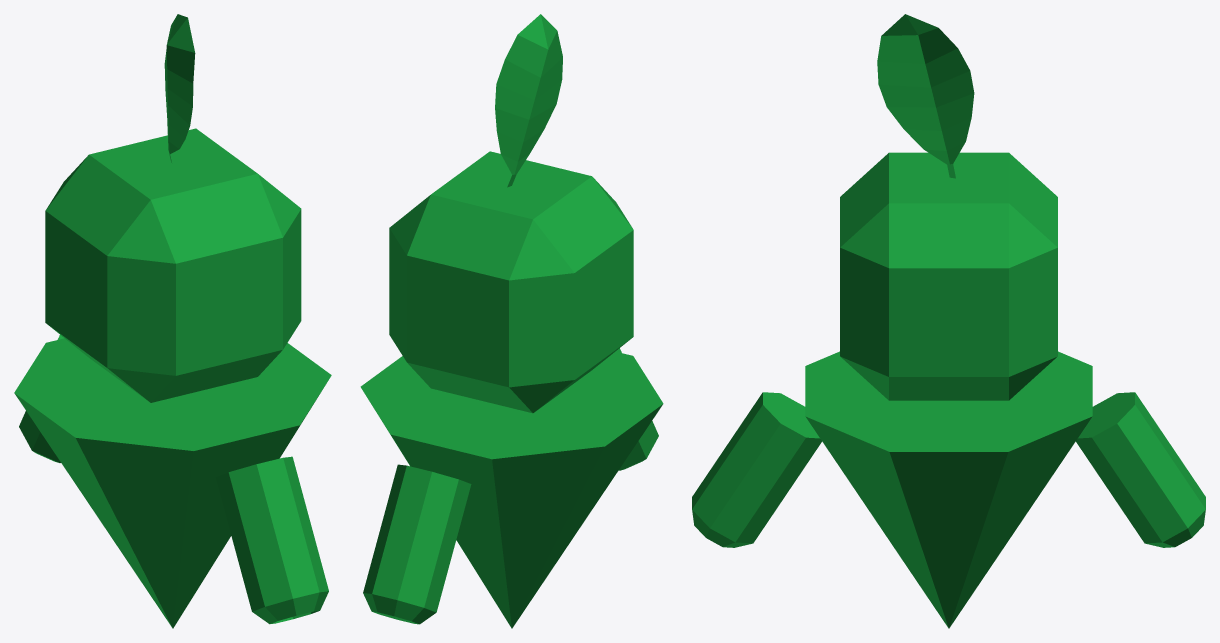
Rendered from GreenPlayer.glb.
3 views of the same model, side by side, from view 1: azimuth 30°, elevation 25°; view 2: azimuth 150°, elevation 25°; view 3: azimuth 270°, elevation 25° (orthographic). The views are drawn at different scales.
Parts seen in each view (by area): view 1: Head, Body, Right Arm, Plane, Left Arm; view 2: Head, Body, Left Arm, Plane, Right Arm; view 3: Head, Body, Left Arm, Right Arm, Plane.
Part boxes in pixels (x1,y1,x2,y2): Head: [45, 128, 301, 402]; Body: [14, 338, 331, 628]; Right Arm: [215, 456, 328, 624]; Plane: [164, 14, 195, 162]; Left Arm: [19, 335, 63, 462]; Head: [389, 151, 633, 413]; Body: [360, 351, 663, 628]; Left Arm: [363, 464, 471, 624]; Plane: [495, 14, 562, 187]; Right Arm: [615, 348, 658, 470]; Head: [840, 152, 1057, 400]; Body: [805, 351, 1092, 628]; Left Arm: [1076, 392, 1205, 547]; Right Arm: [692, 392, 821, 547]; Plane: [877, 14, 974, 178].
Bounding box in the file's own units: 1.85 × 4.34 × 3.3.
